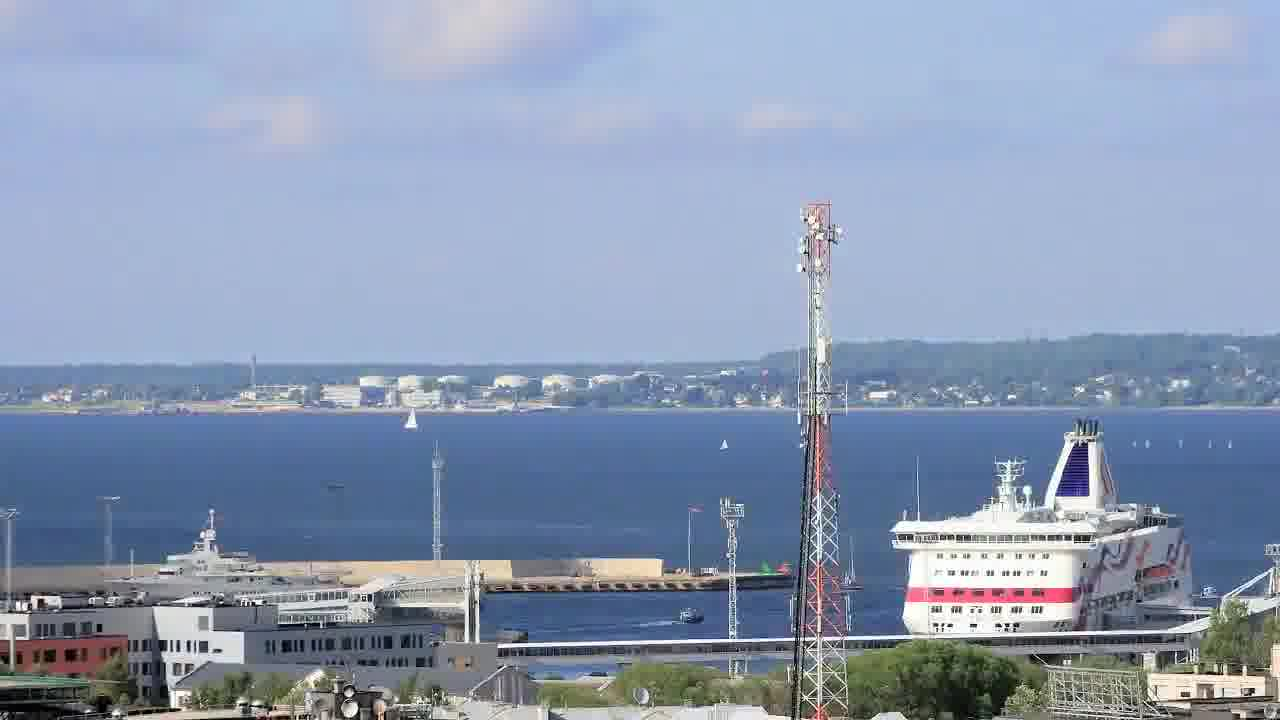type-0: (665, 591, 715, 639)
type-2: (382, 389, 434, 445)
type-3: (868, 415, 1225, 638), (84, 511, 353, 609)
